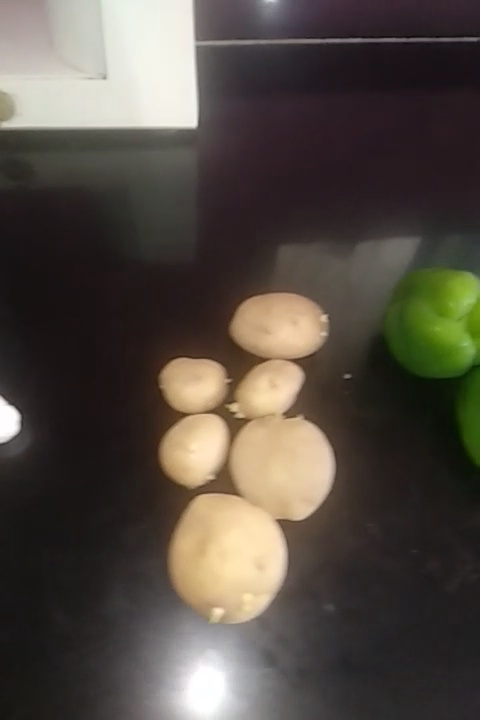capsicum: (375, 267, 477, 374), (449, 358, 480, 463)
garlic: (1, 400, 24, 445)
potato: (173, 487, 291, 623), (220, 415, 343, 512), (231, 296, 330, 354), (235, 355, 314, 421), (143, 420, 227, 475), (157, 351, 226, 414)
